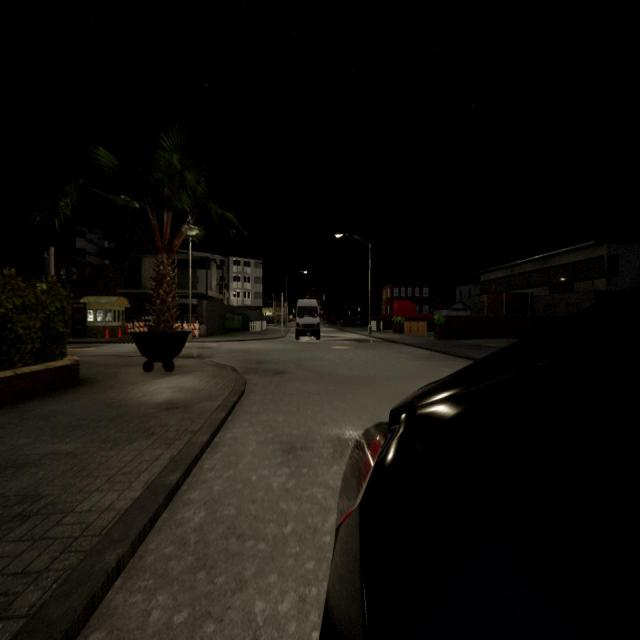Vehicle: (320, 287, 640, 640), (295, 299, 321, 340)
